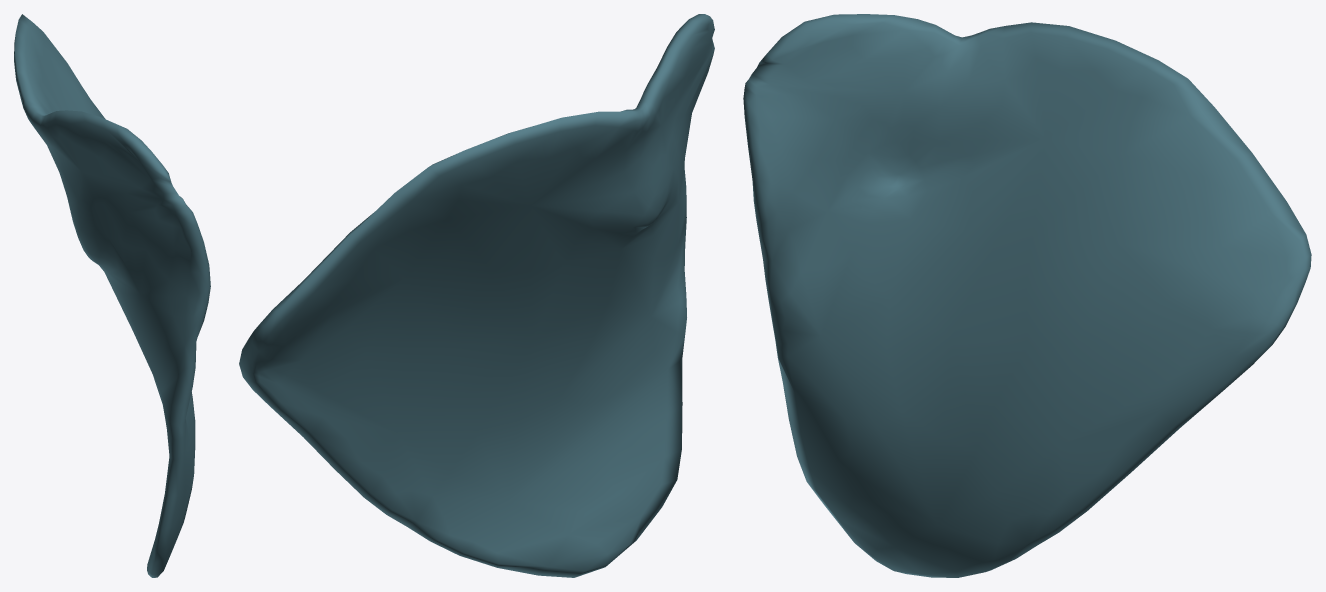
The model's file is Tibialis_anterior_medial_cuneiform_right.glb.
3 renders of one model, left to right at view 1: azimuth 30°, elevation 25°; view 2: azimuth 150°, elevation 25°; view 3: azimuth 270°, elevation 25°, orthographic. The views are drawn at different scales.
Visible parts, largest first — view 1: Tibialis_anterior_on_medial_cuneiform_bone.r_Generated_Mesh_; view 2: Tibialis_anterior_on_medial_cuneiform_bone.r_Generated_Mesh_; view 3: Tibialis_anterior_on_medial_cuneiform_bone.r_Generated_Mesh_.
Part boxes in pixels (<box>): Tibialis_anterior_on_medial_cuneiform_bone.r_Generated_Mesh_: <box>14,14,210,577</box>; Tibialis_anterior_on_medial_cuneiform_bone.r_Generated_Mesh_: <box>239,14,714,577</box>; Tibialis_anterior_on_medial_cuneiform_bone.r_Generated_Mesh_: <box>743,14,1311,577</box>.
Size of the model in its own units: 0.00635 by 0.0134 by 0.0132.
